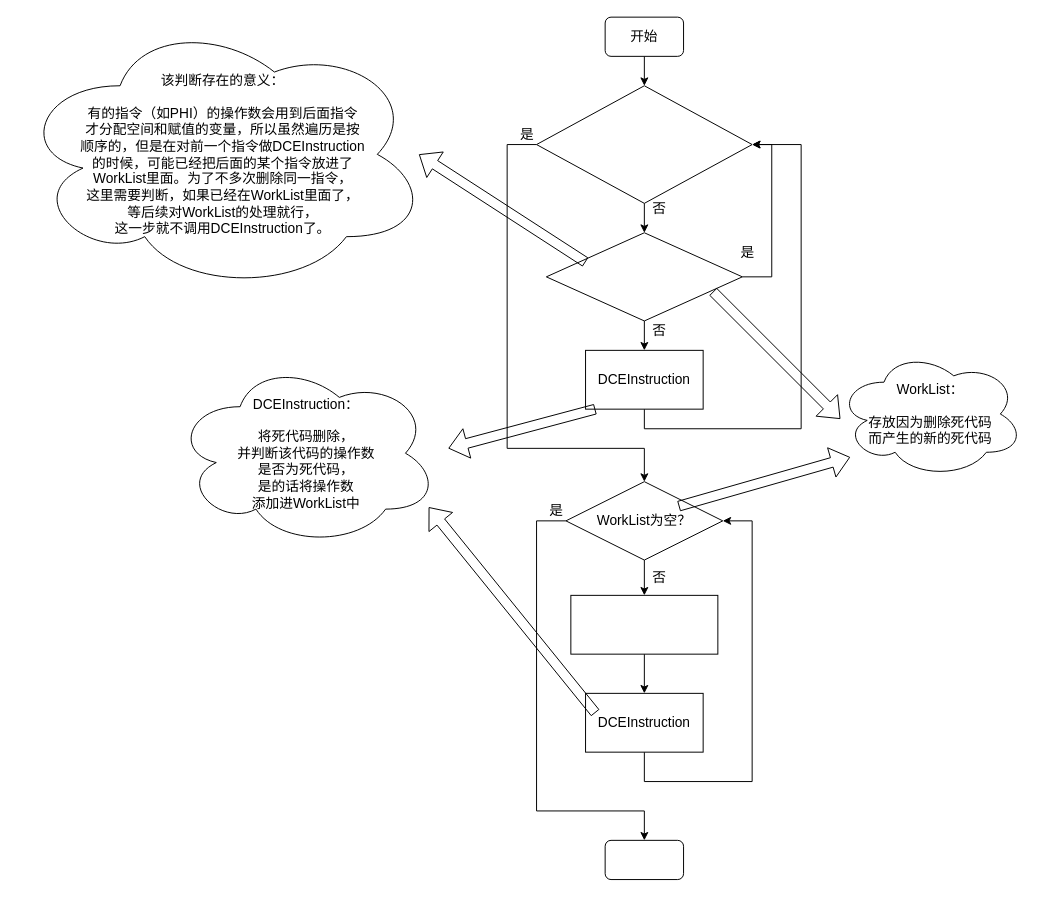
Some shapes in this 1041 by 897 pixel diagram are drawn without their labels. The shapes that lost their labels are listed below. From the top down, each one's box as (x1, y1, x2, y2) in pixels, then its label:
(536, 85, 752, 203): 遍历完Function所有指令？ 对每条指令：
(545, 232, 742, 321): 该指令已经在WorkList中？
(570, 594, 718, 654): 弹出WorkList中的一个指令
(604, 839, 684, 880): 结束
